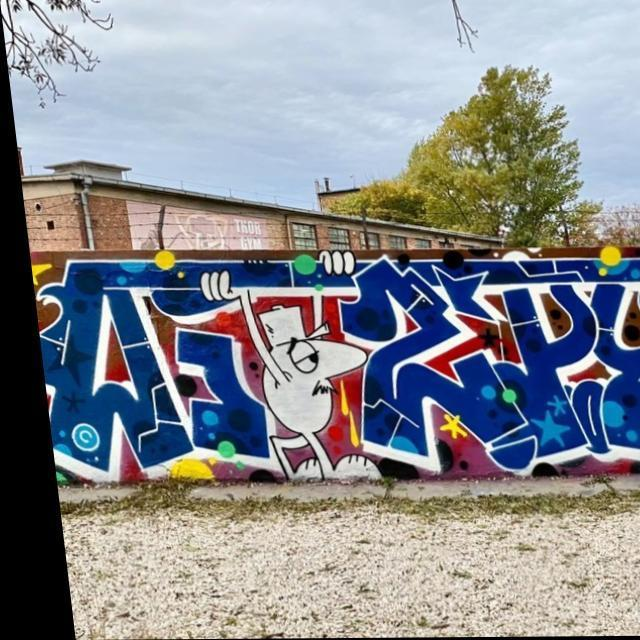-: (24, 250, 640, 488), (194, 264, 376, 488)
